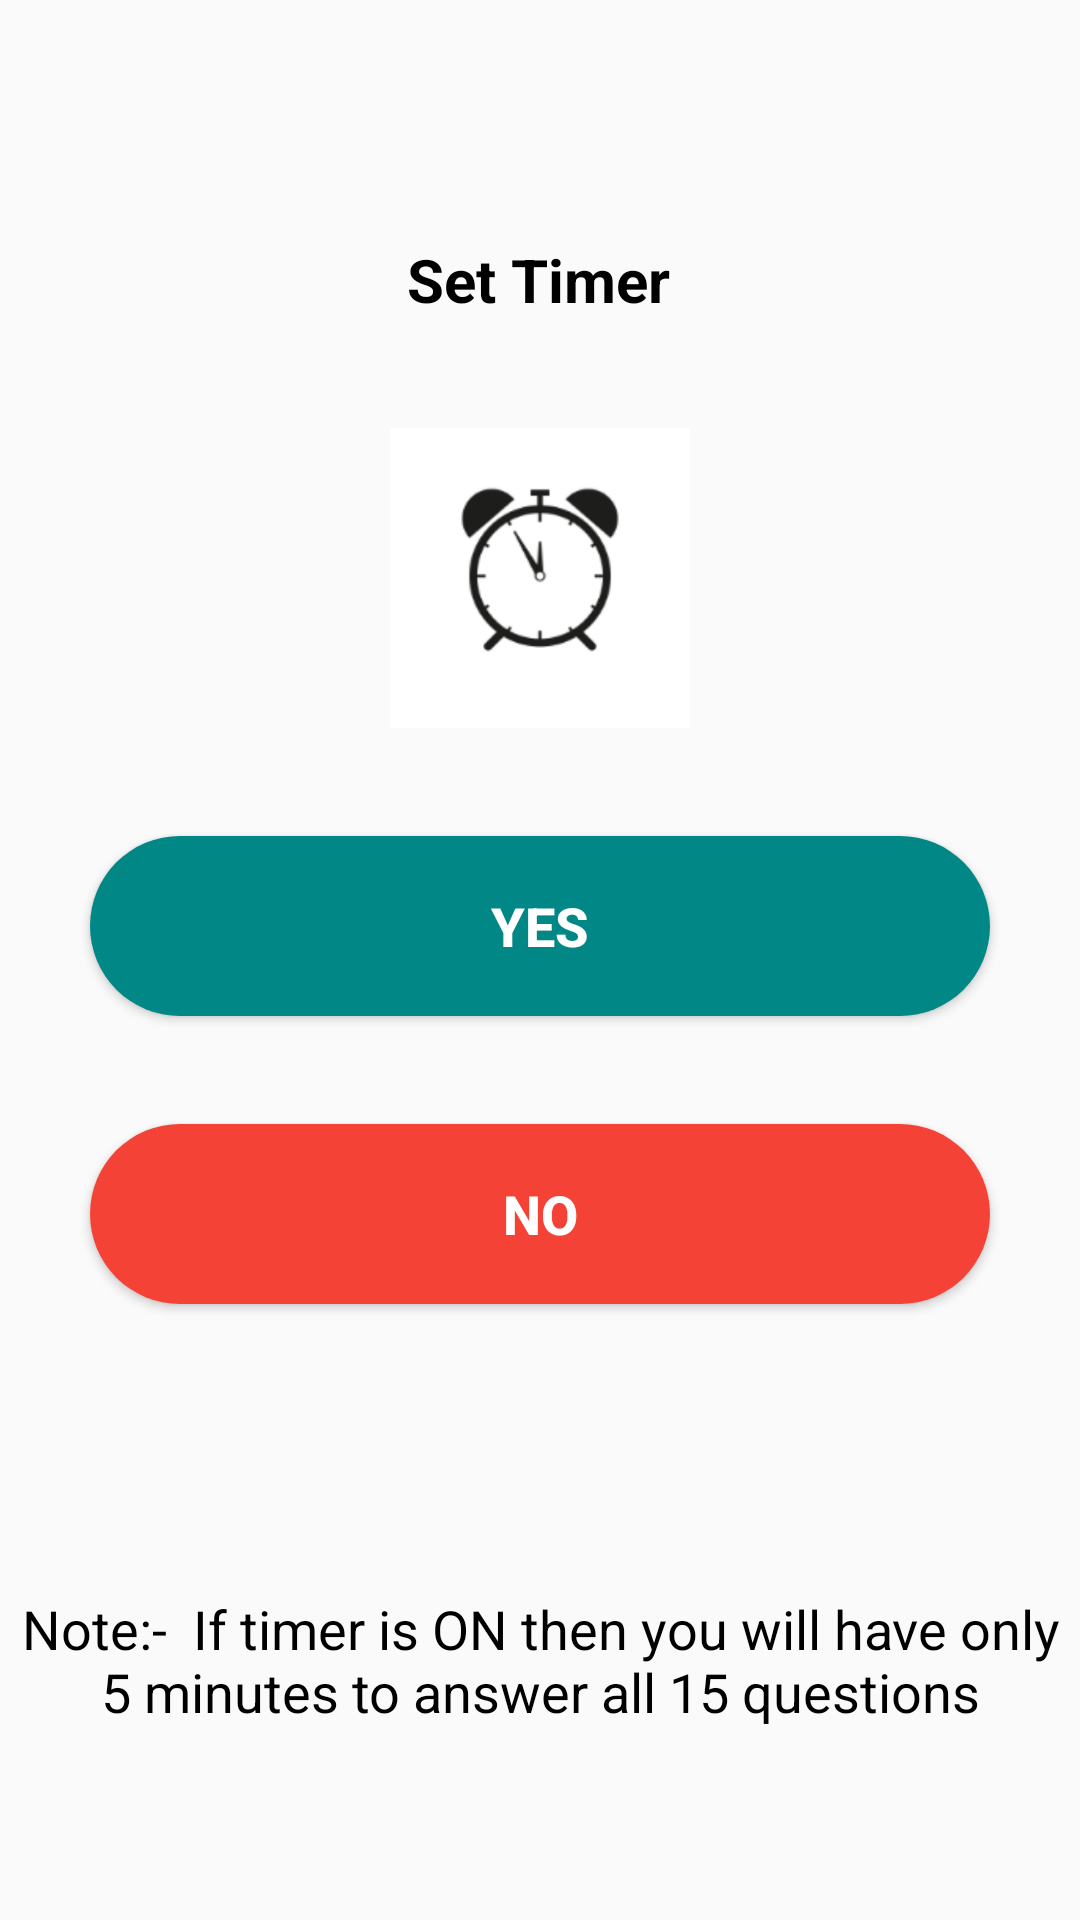

Where to tap for icons on this 1080 × 1920 app screen, as [x,y]:
clock: [540,569]
